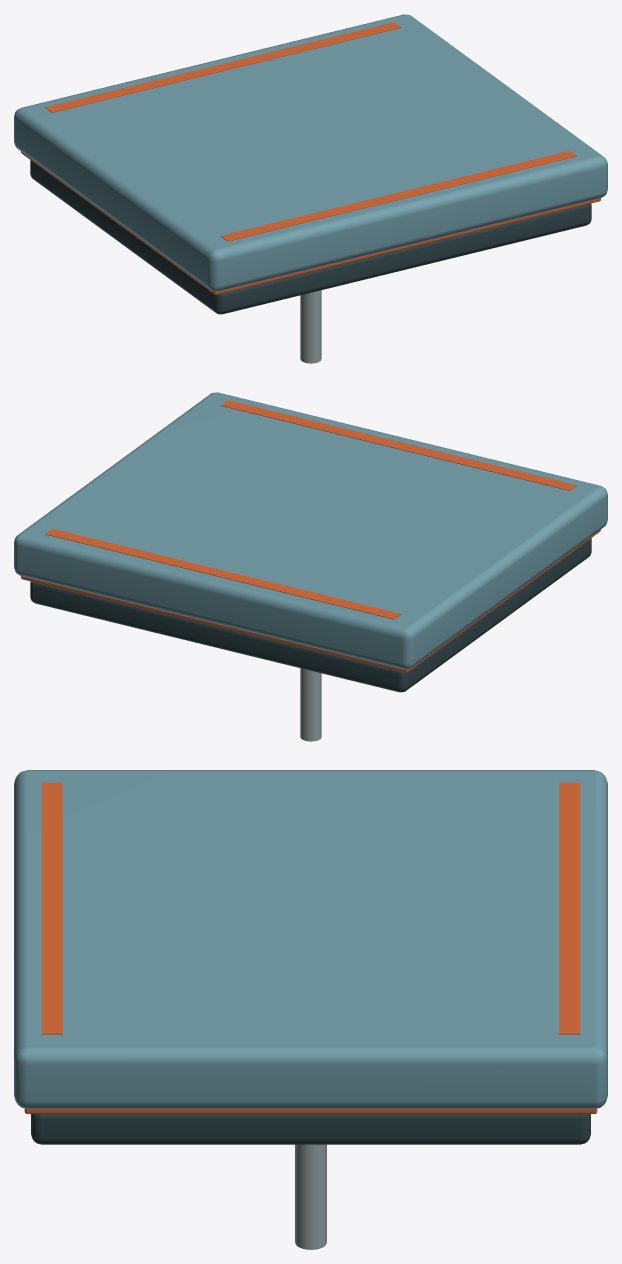
The model's file is water-rush-lift.glb.
3 renders of one model, top to bottom at view 1: azimuth 30°, elevation 25°; view 2: azimuth 150°, elevation 25°; view 3: azimuth 270°, elevation 25°, orthographic. The views are drawn at different scales.
Visible parts, largest first — view 1: LiftVisual; view 2: LiftVisual; view 3: LiftVisual.
Part boxes in pixels (box(x1,y1,x2,y2)): LiftVisual: box(14, 14, 607, 363); LiftVisual: box(14, 392, 607, 741); LiftVisual: box(14, 770, 607, 1249).
Bounding box in the file's own units: 3.2 × 1.74 × 2.8.
